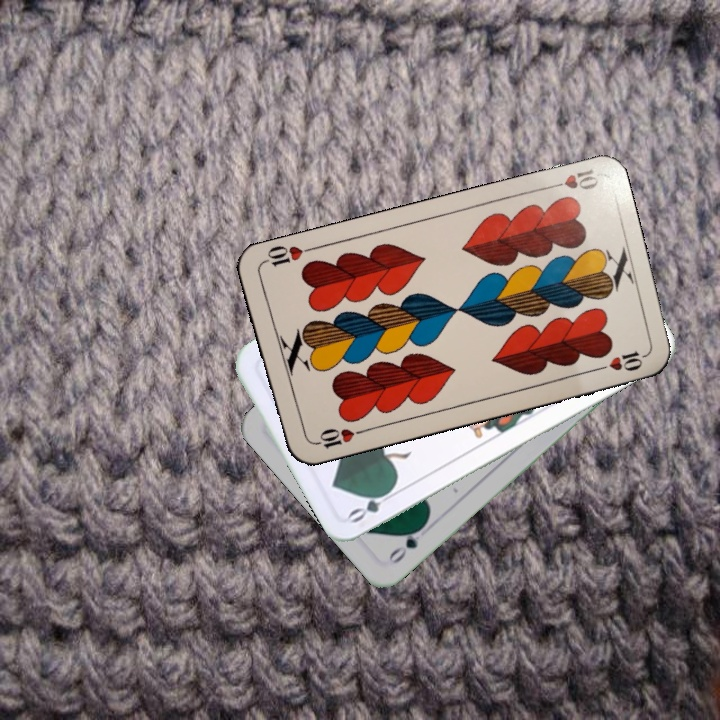GO: (344, 483, 400, 526), (384, 519, 429, 567)
H10: (542, 164, 601, 193), (308, 424, 367, 451)
